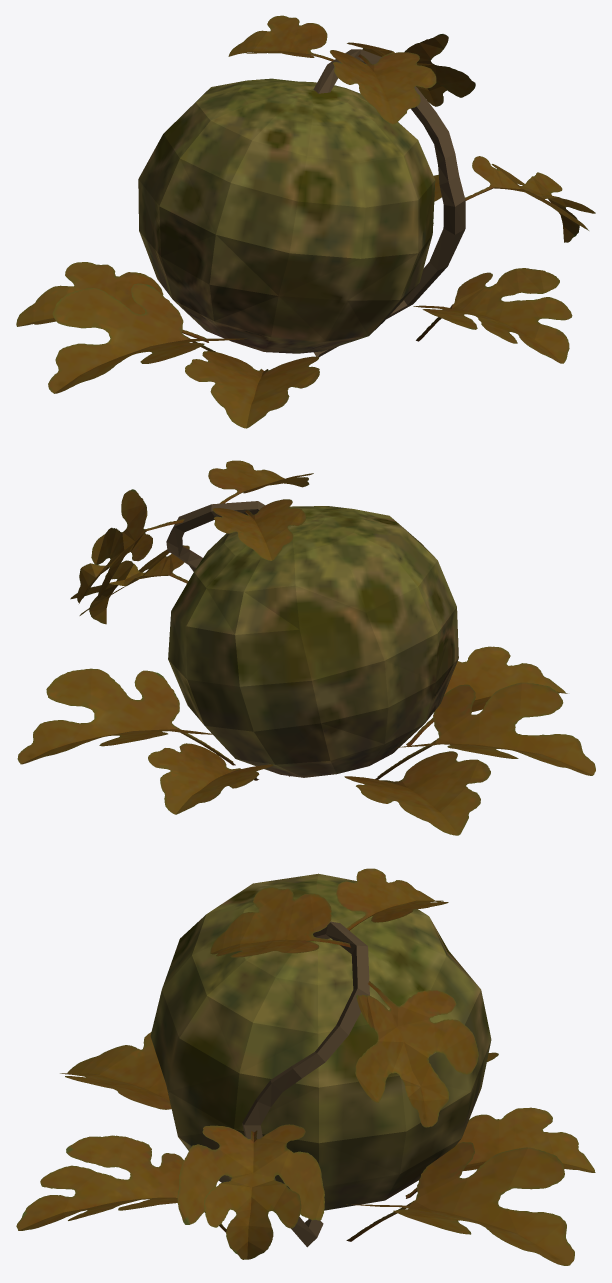
Rendered from Watermelon_04.obj.
3 views of the same model, one above another, from view 1: azimuth 30°, elevation 25°; view 2: azimuth 150°, elevation 25°; view 3: azimuth 270°, elevation 25° (orthographic). The views are drawn at different scales.
Size of the model in its own units: 1.27 by 0.6986 by 1.06.
1 material, 1 textured.
